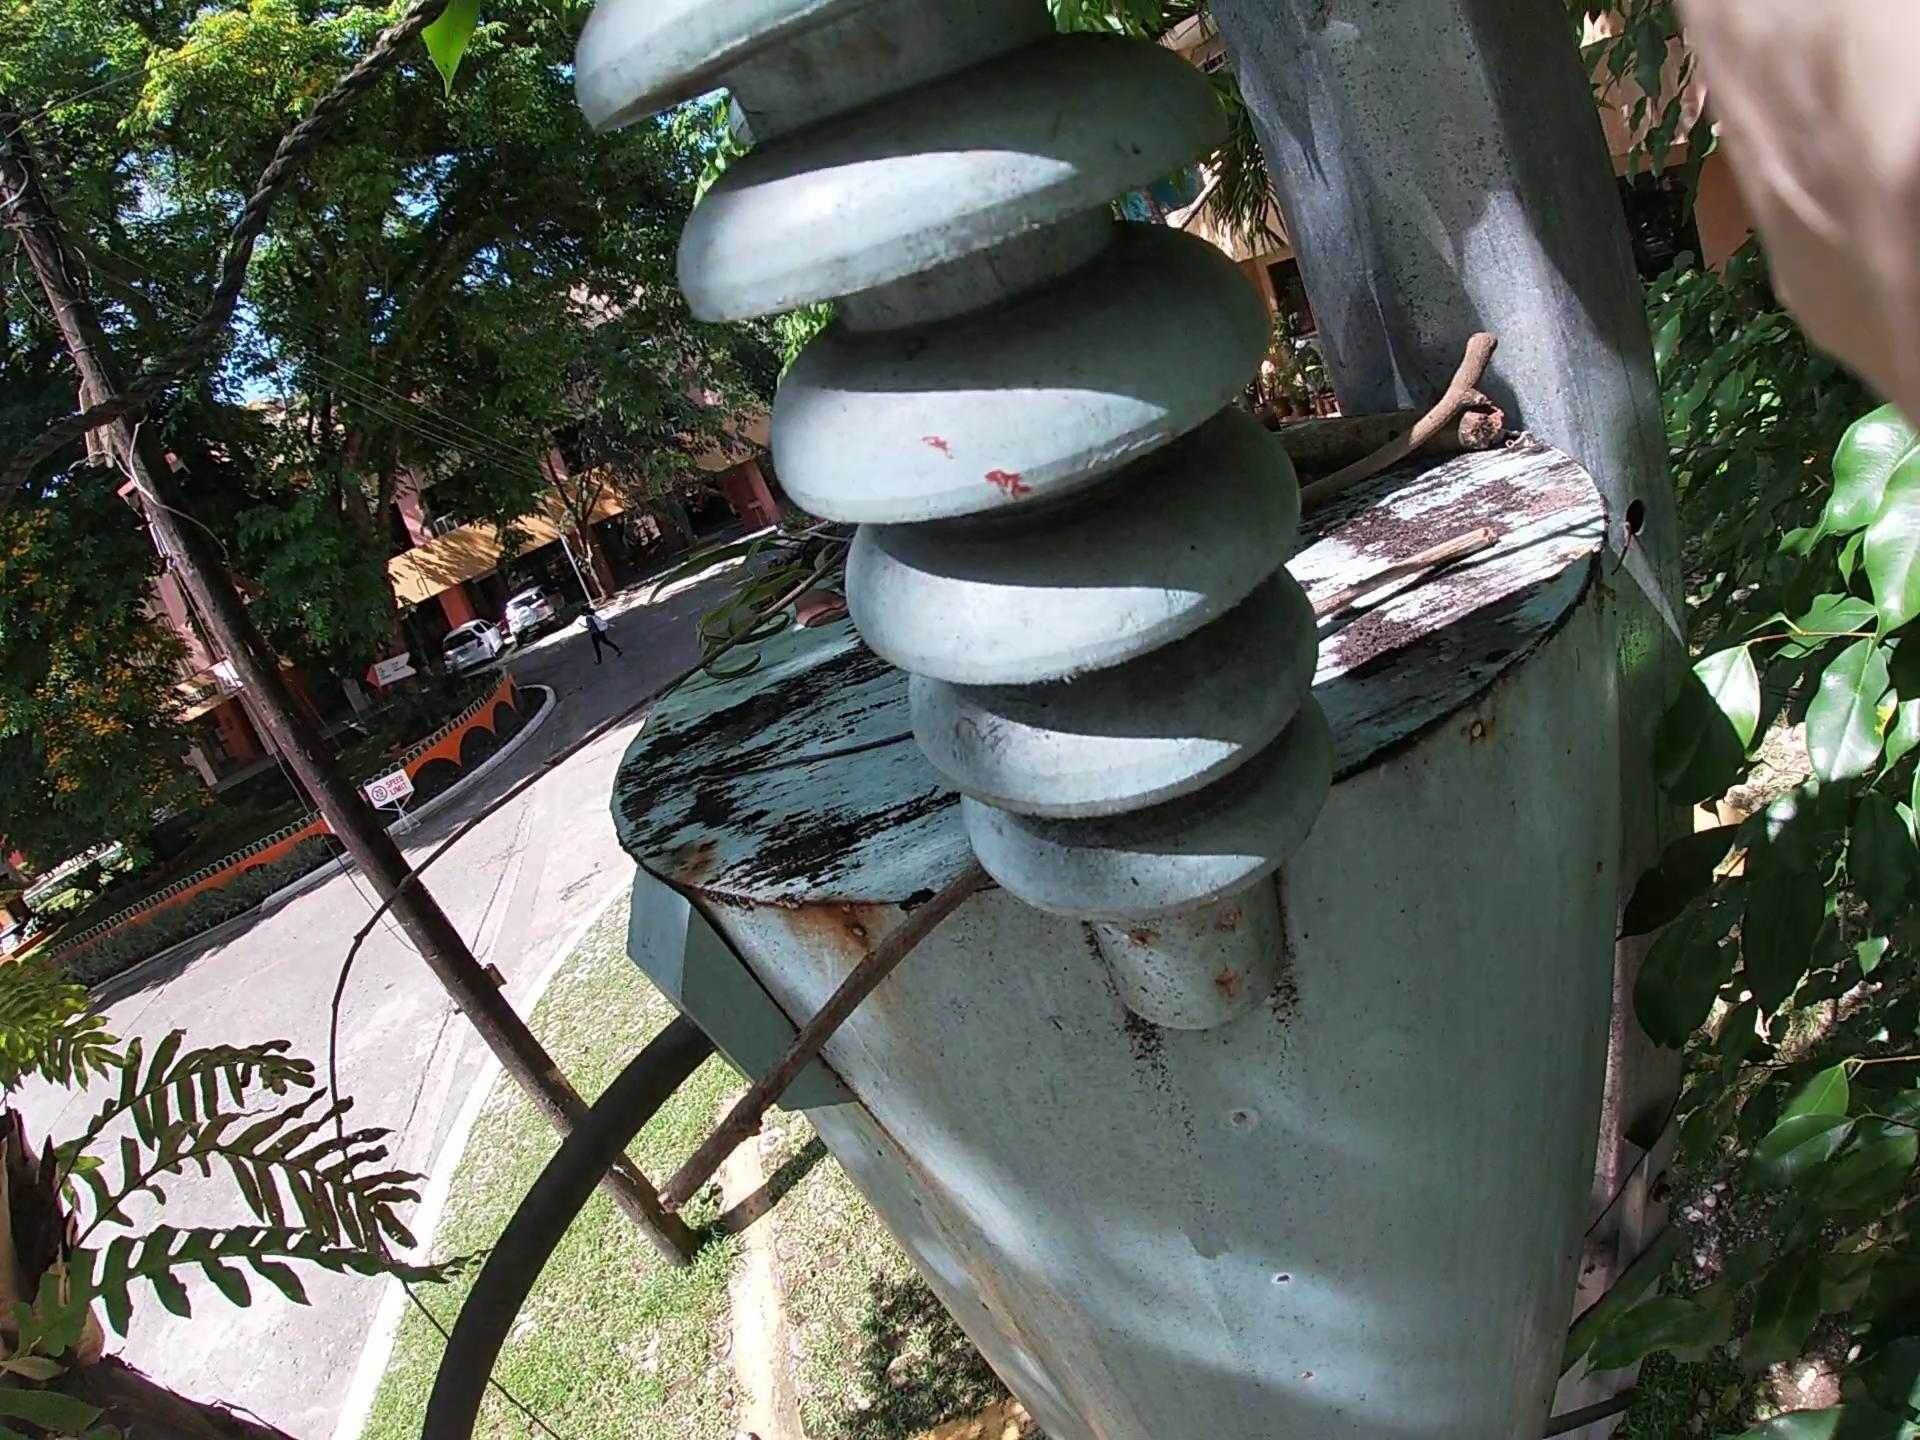branch with leaves: (649, 333, 1569, 703)
leaf: (779, 557, 892, 711)
tree branch: (2, 182, 1199, 1190), (664, 620, 1439, 1213), (1303, 327, 1474, 601)
